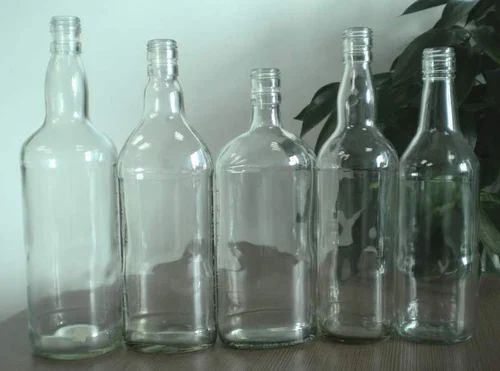glass_bottle: (17, 11, 124, 364), (218, 61, 315, 358), (129, 30, 213, 361), (321, 23, 395, 354), (399, 41, 477, 351)
